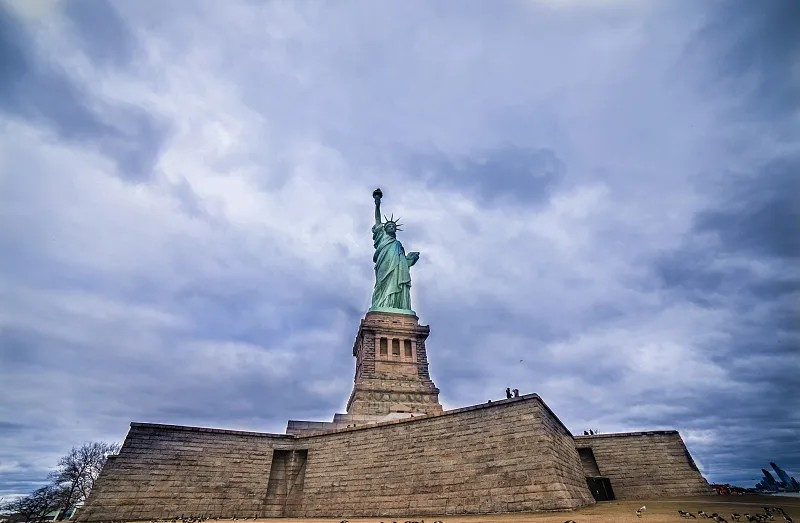SL: (345, 187, 443, 413)
